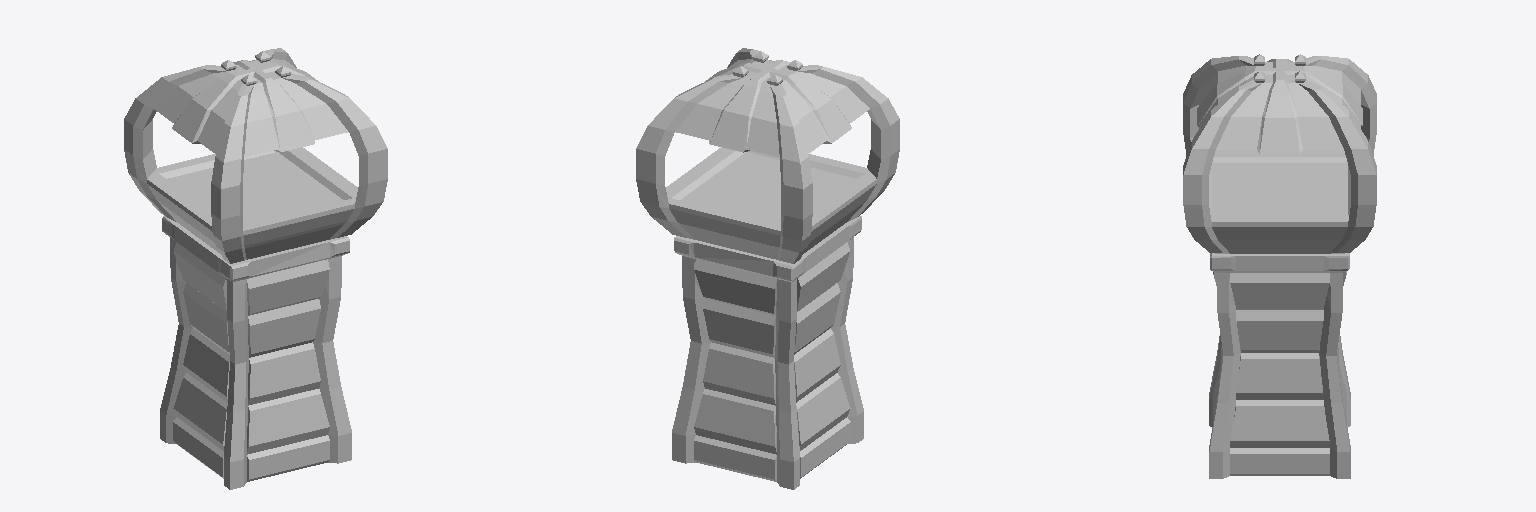
File: Tower.obj
The picture shows the model from 3 angles: view 1: azimuth 30°, elevation 25°; view 2: azimuth 150°, elevation 25°; view 3: azimuth 270°, elevation 25°; orthographic projection.
Size of the model in its own units: 6.01 by 13.26 by 6.01.